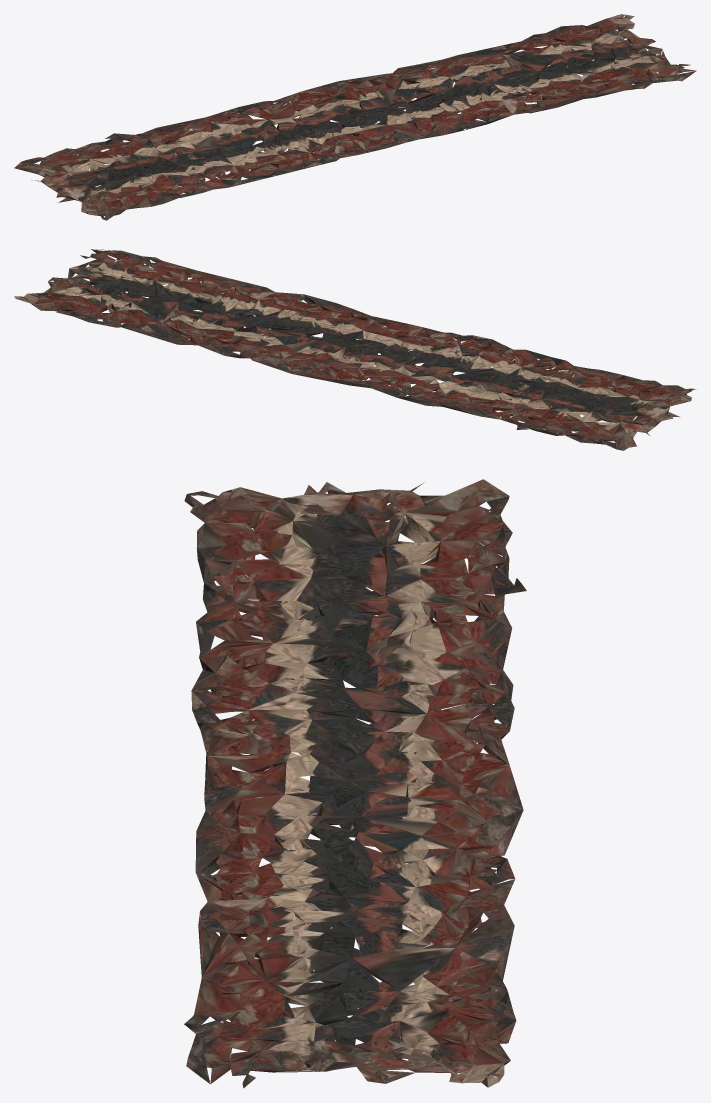
File: h_runner_long.glb
The picture shows the model from 3 angles, top to bottom: view 1: azimuth 30°, elevation 25°; view 2: azimuth 150°, elevation 25°; view 3: azimuth 270°, elevation 25°; orthographic projection. The views are drawn at different scales.
Visible parts, largest first — view 1: h_runner; view 2: h_runner; view 3: h_runner.
Boxes of the visible parts, box(x1,y1,x2,y2) form: h_runner: box(14, 14, 696, 220); h_runner: box(14, 249, 696, 450); h_runner: box(184, 479, 526, 1088).
Bounding box in the file's own units: 3.26 × 0.0398 × 0.7781.
Materials: 1 (1 with a texture image).
